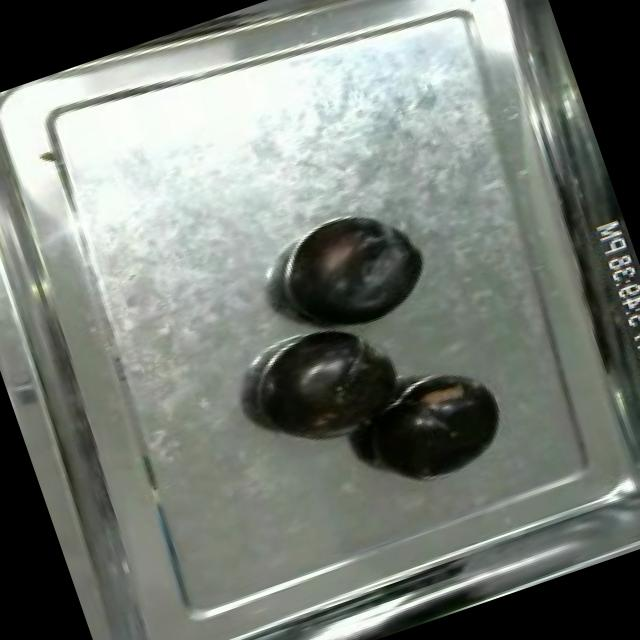Fruit: (263, 198, 443, 352), (238, 308, 415, 462), (351, 364, 520, 499)
